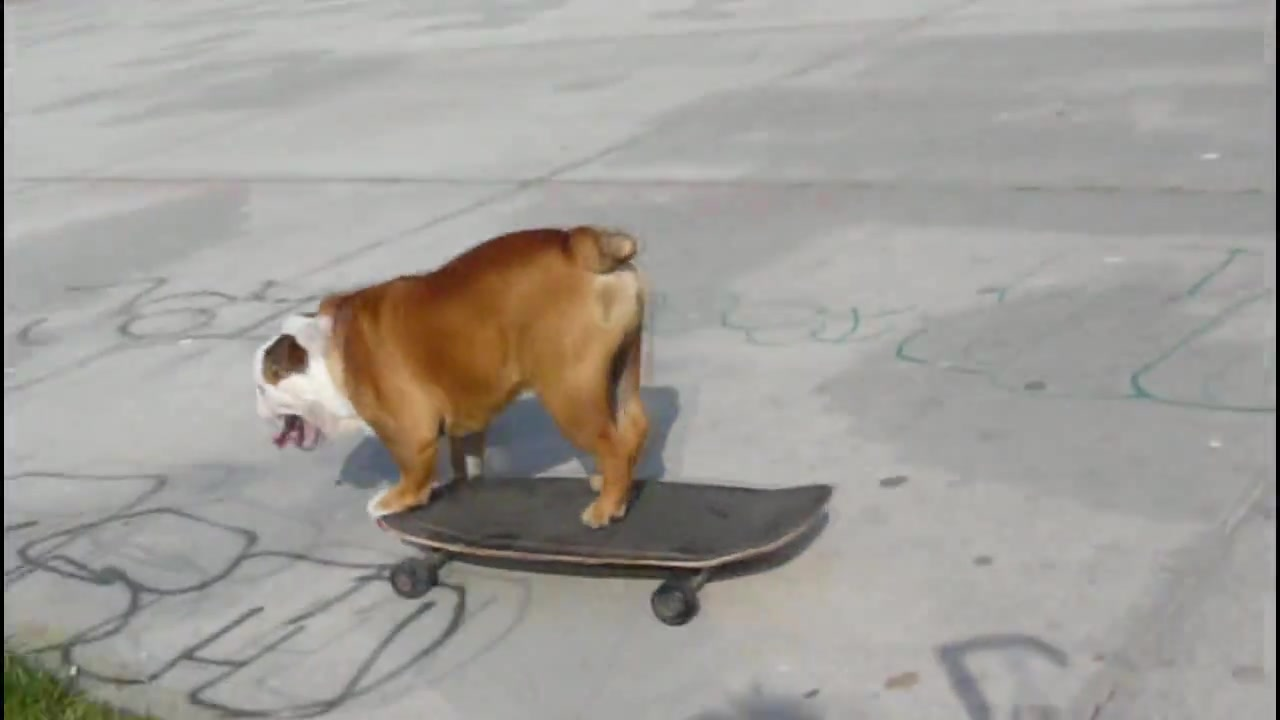dog: (256, 219, 663, 529)
